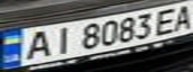0: (100, 17, 121, 47)
3: (133, 10, 160, 39)
8: (78, 20, 103, 51), (115, 15, 139, 44)
A: (18, 28, 57, 61), (169, 2, 193, 33)
E: (151, 6, 184, 36)
I: (45, 24, 78, 56)
